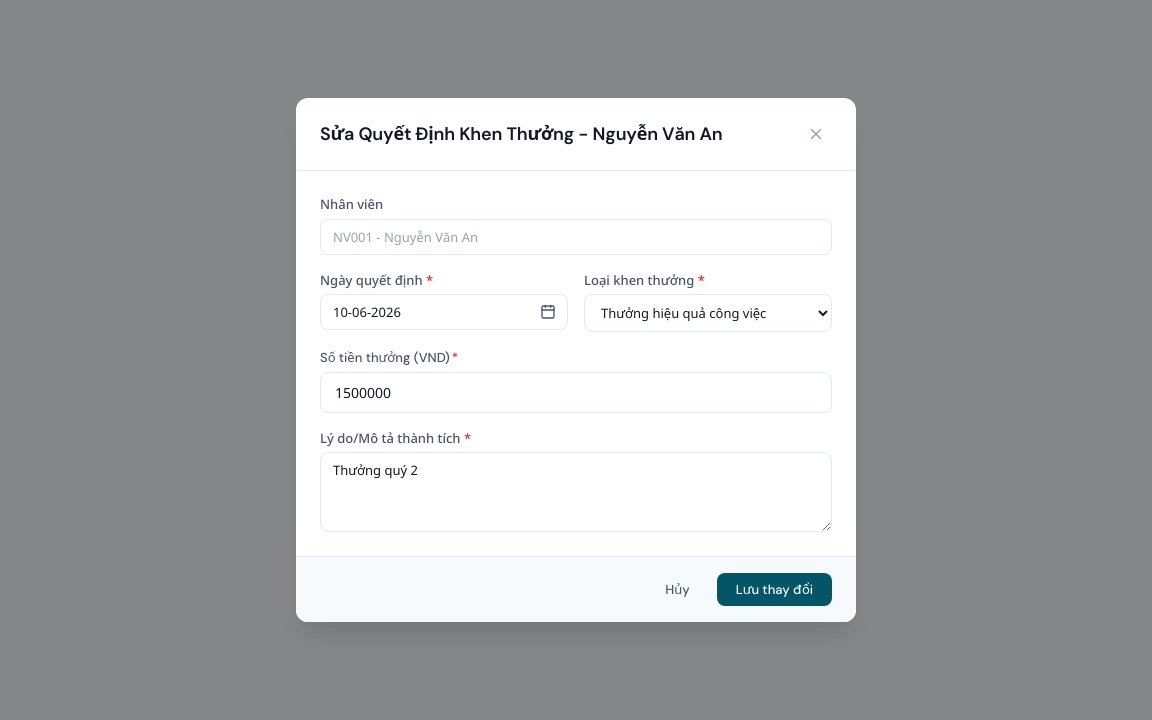
Scenario: Reward & Discipline Modals › RewardEditModal › validates description is required
The width and height of the screenshot is (1152, 720).
Clear the text box labelled "Lý do/Mô tả thành tích *" at (576, 492), box [320,452,832,532]
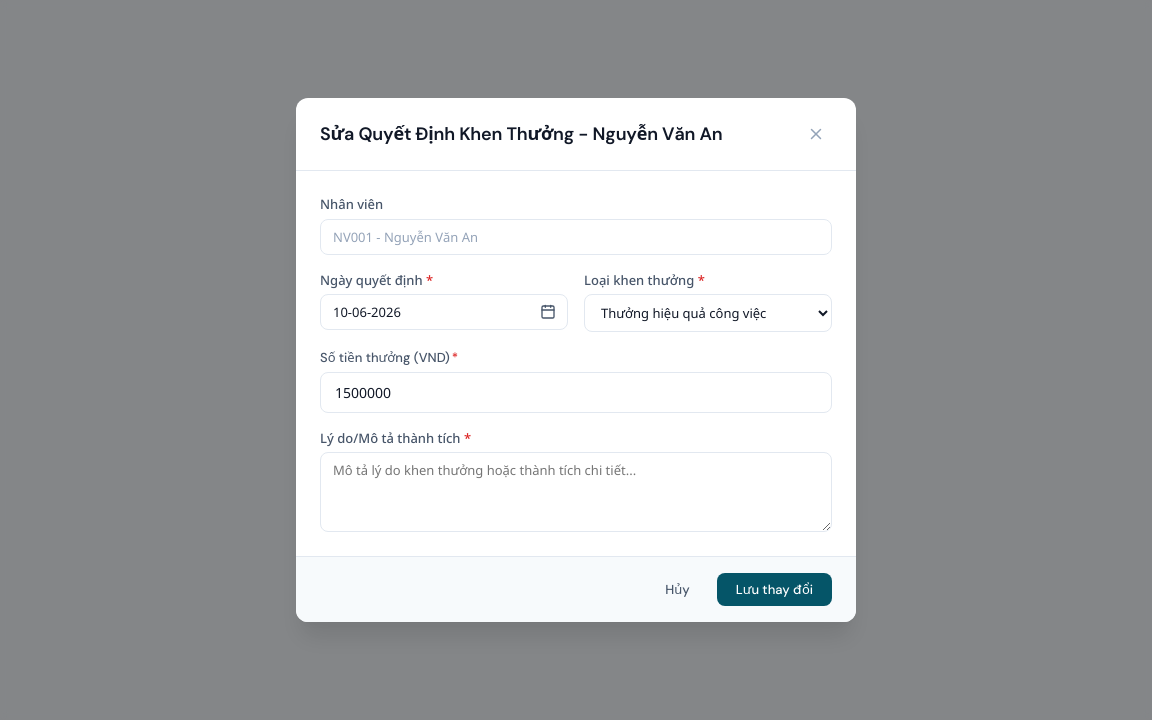
Click the button "Lưu thay đổi".
click(774, 590)  # box [717,573,832,606]
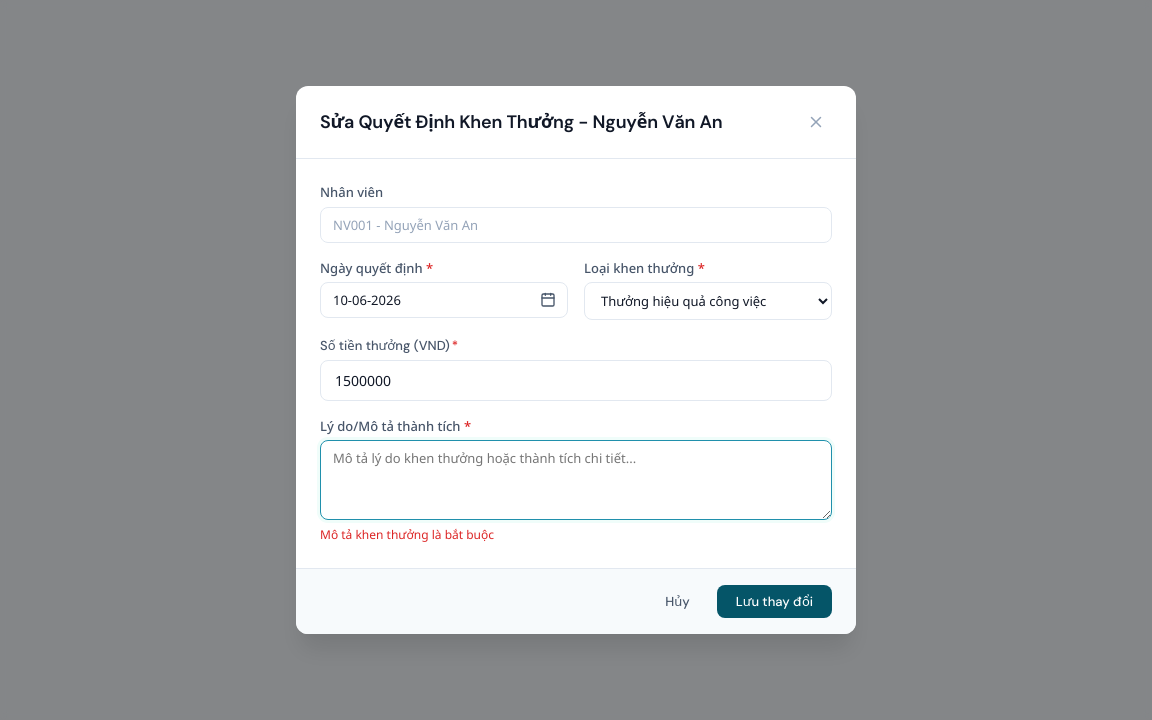
Expected: the text "Mô tả khen thưởng là bắt buộc" is shown, [320,526,494,543]
